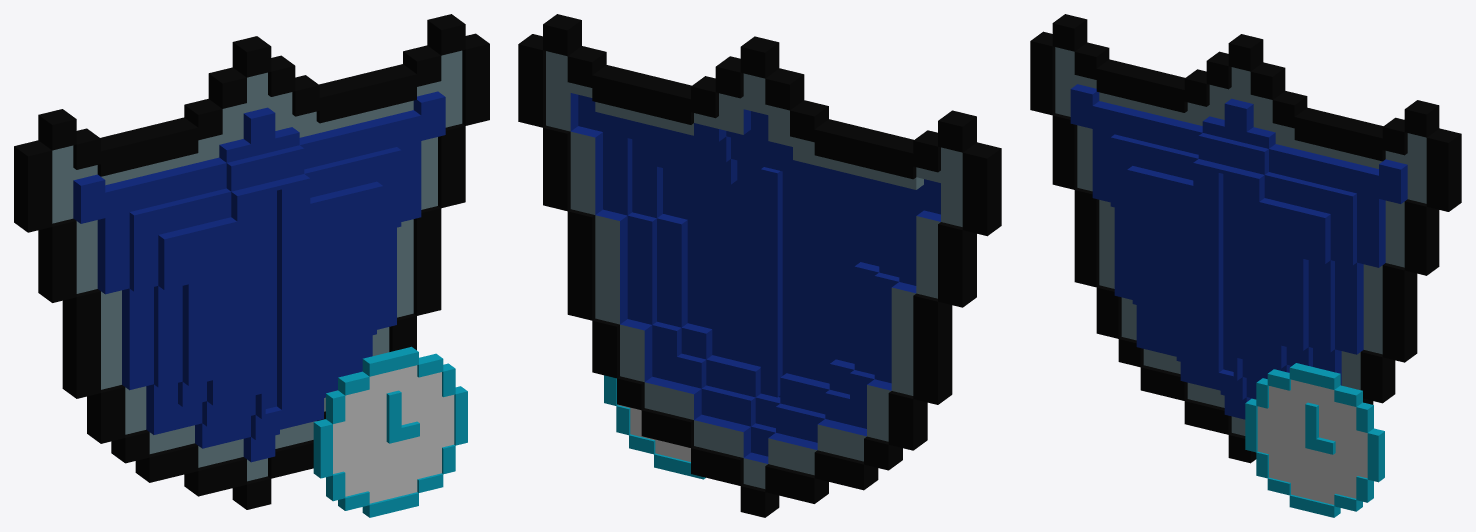
The model's file is shield_time.fbx.
3 renders of one model, left to right at view 1: azimuth 30°, elevation 25°; view 2: azimuth 150°, elevation 25°; view 3: azimuth 330°, elevation 25°, orthographic. The views are drawn at different scales.
Parts seen in each view (by area): view 1: Cube.010; view 2: Cube.010; view 3: Cube.010.
Part boxes in pixels (left/top/right/bottom): Cube.010: left=14, top=14, right=489, bottom=517; Cube.010: left=518, top=14, right=1001, bottom=517; Cube.010: left=1030, top=14, right=1461, bottom=517.
Bounding box in the file's own units: 3800 × 3685 × 613.
